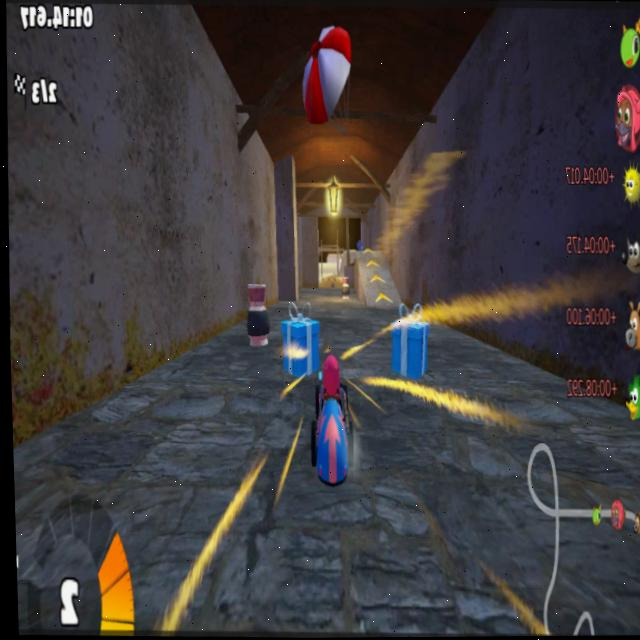bonus: (382, 302, 430, 396), (273, 314, 324, 375)
player_kart: (305, 359, 370, 497)
power_up: (372, 294, 397, 307), (361, 257, 379, 272), (363, 274, 385, 286), (358, 248, 375, 256)
